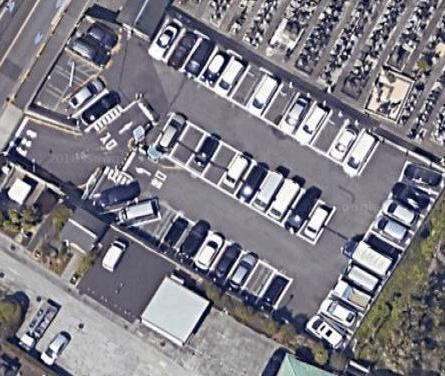parkingspot: (146, 15, 383, 178), (302, 159, 445, 356), (148, 111, 338, 248), (154, 210, 293, 318), (89, 181, 162, 232), (61, 73, 123, 133), (65, 15, 122, 71)
